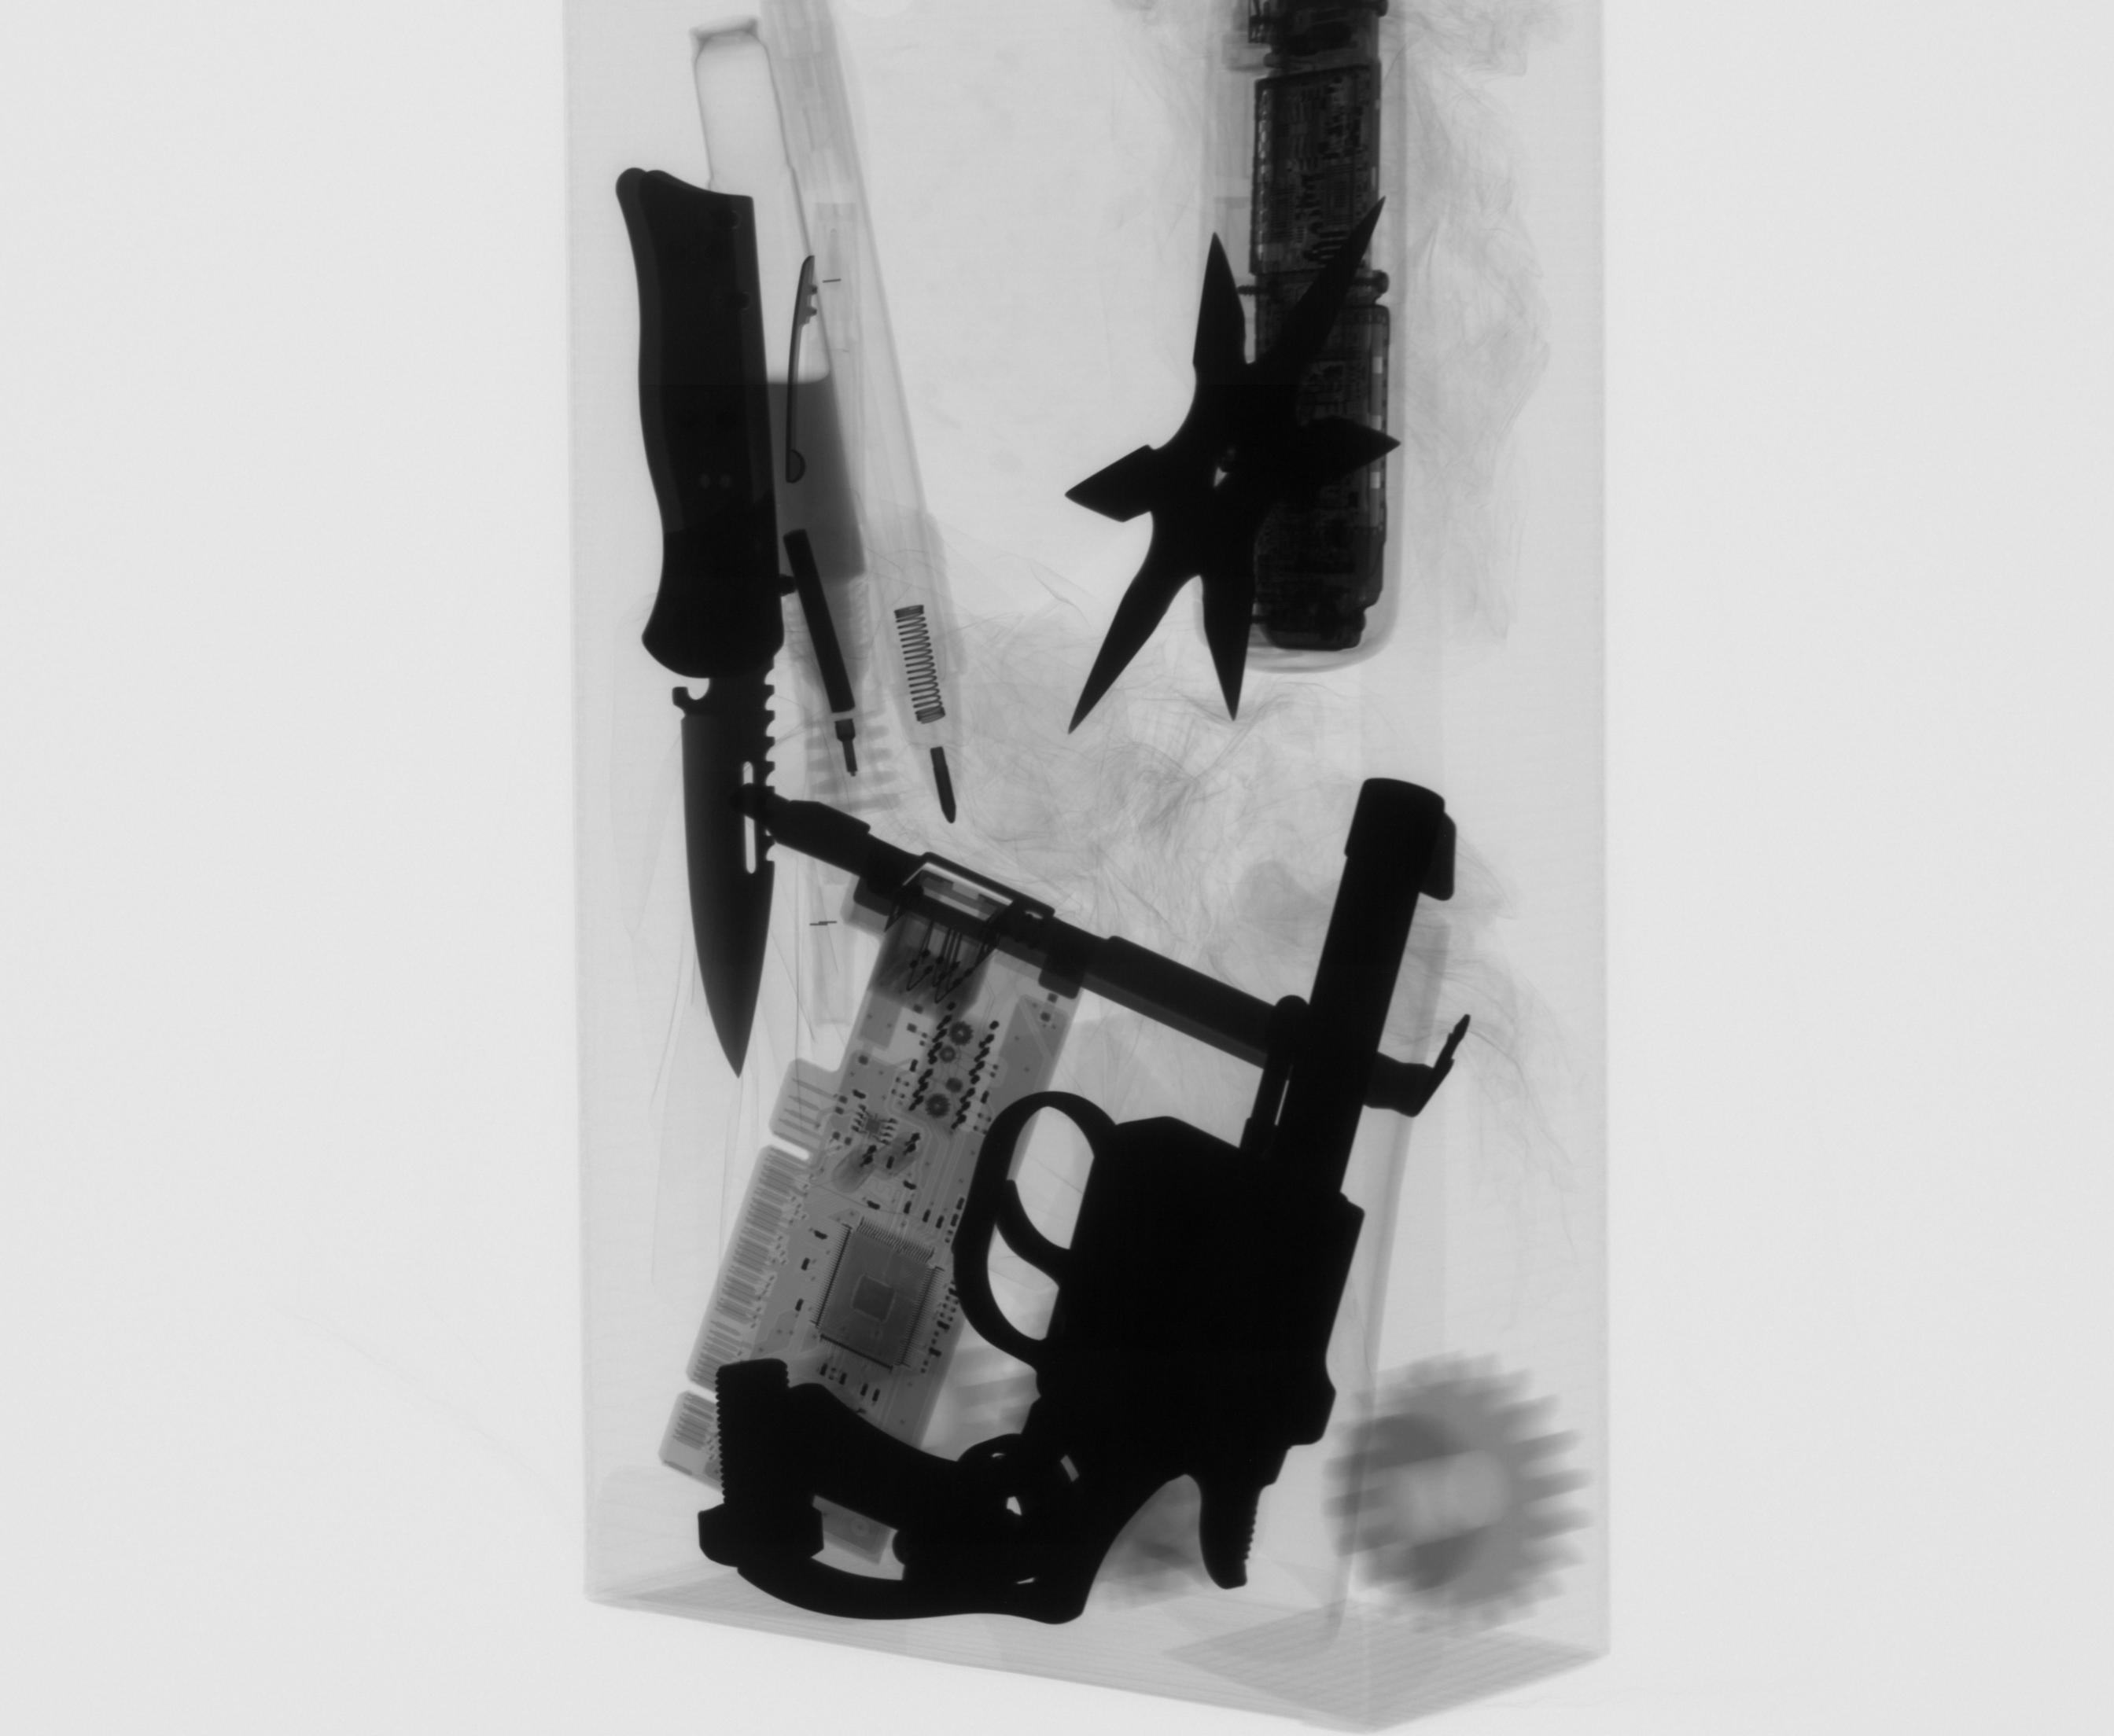Handgun: (686, 769, 1468, 1638)
Knife: (601, 156, 837, 1088)
Shuriken: (1057, 228, 1405, 755)
